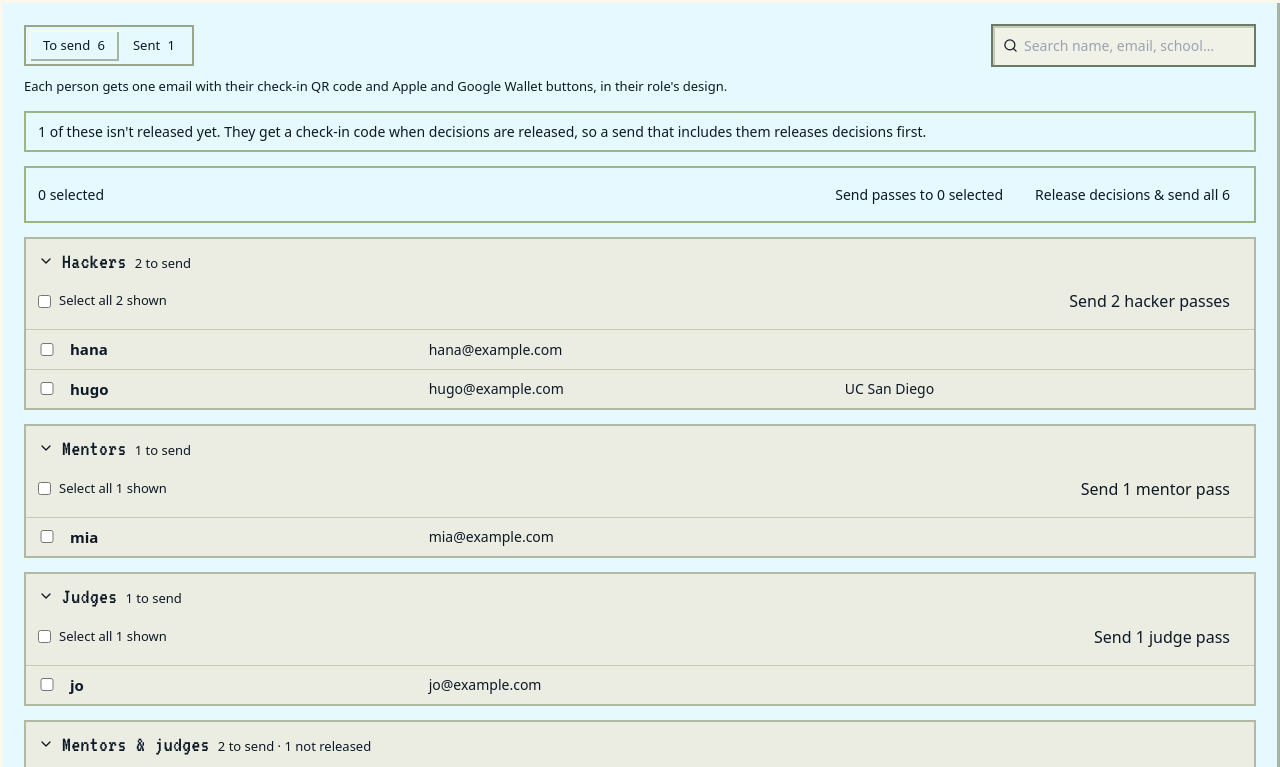
Test case: PassesPage › says so when a send fails
Click the button "Send 1 judge pass" at (1162, 636), box [1082,618,1242,654]
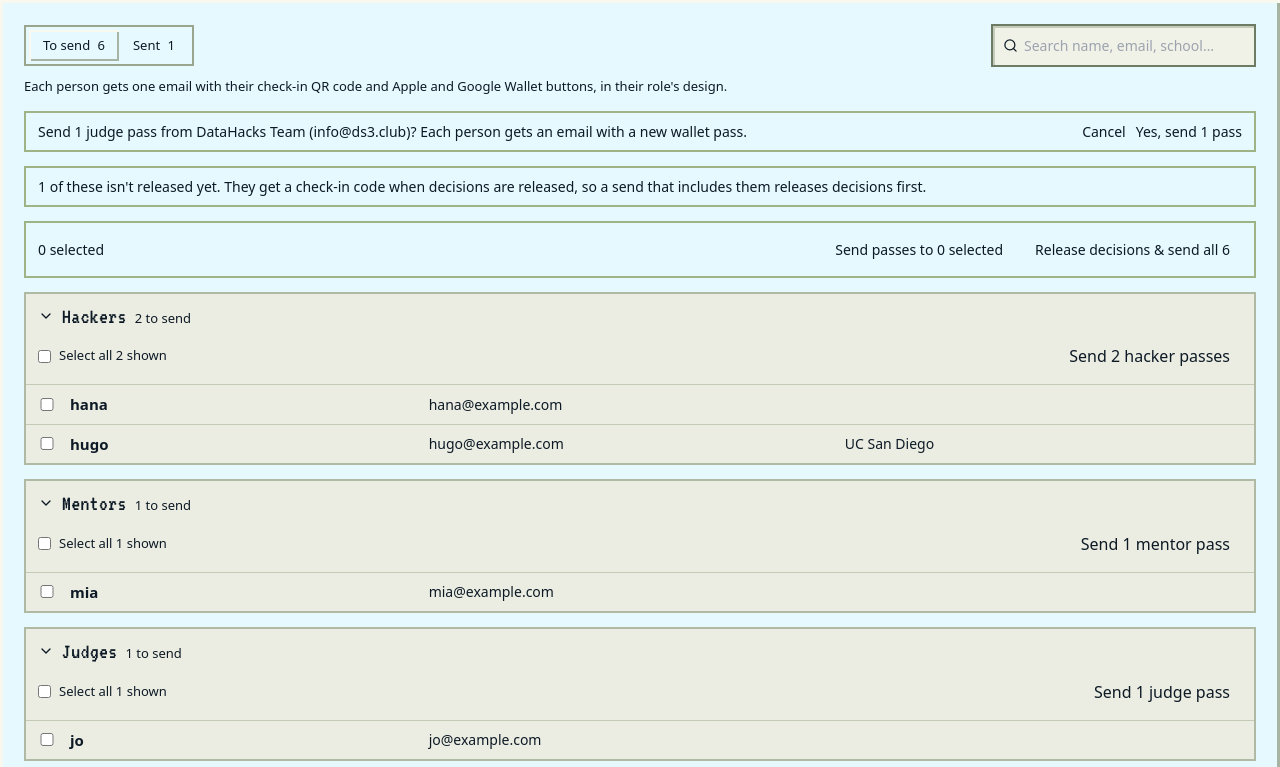
Click the button "Yes, send 1 pass" at (1189, 131), box [1136,120,1242,142]
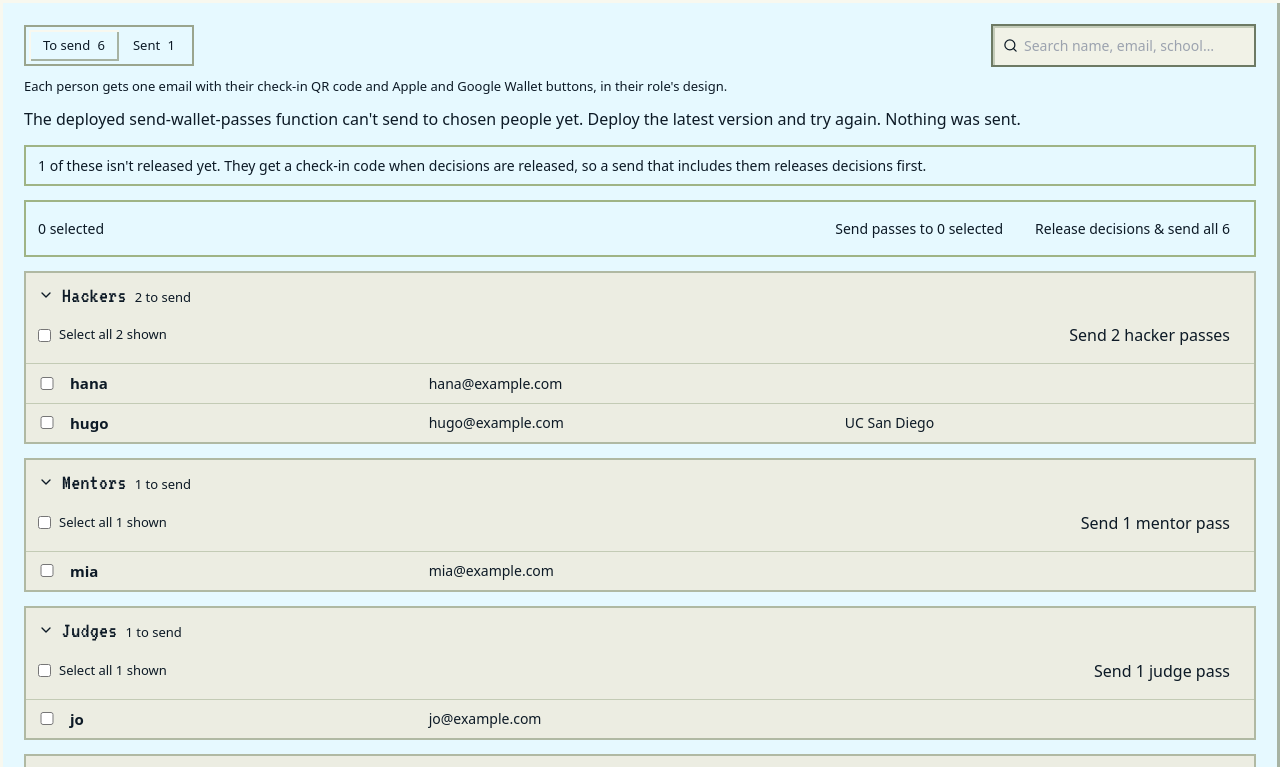
expect the text "Nothing was sent" is shown: met, box [24,108,1021,130]
